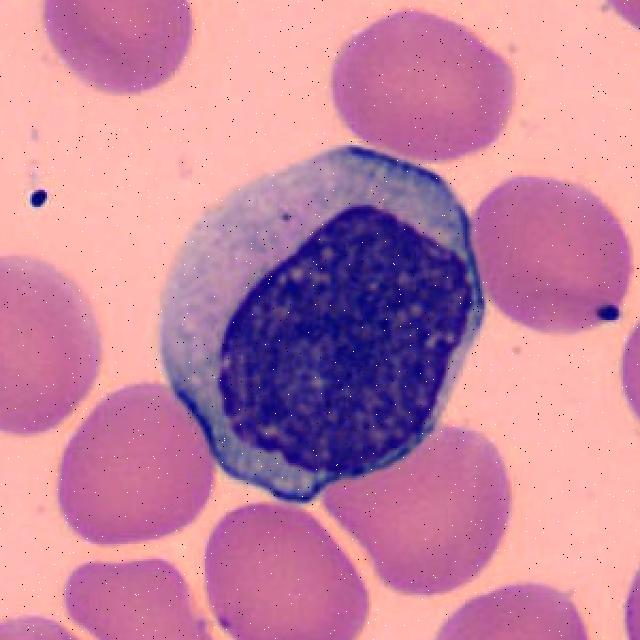White Blood Cell: (161, 146, 484, 499)
